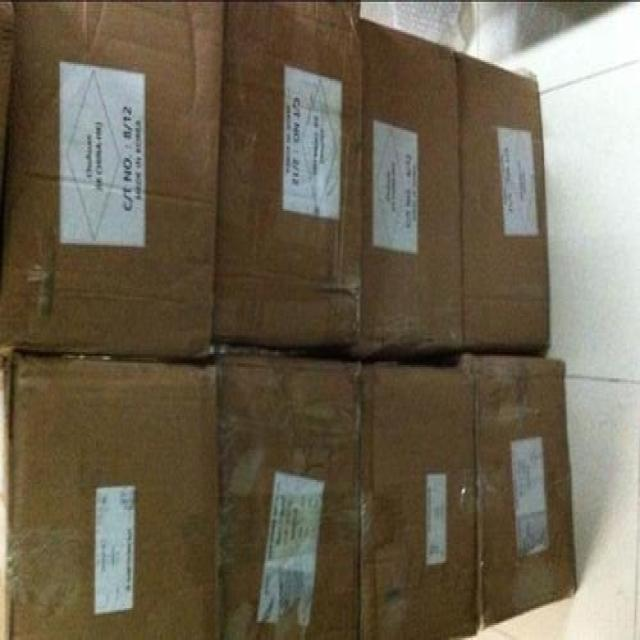box: (0, 3, 225, 358), (0, 352, 223, 638), (338, 15, 466, 364), (216, 349, 362, 638), (450, 349, 578, 633), (359, 358, 480, 638), (458, 48, 552, 356)
